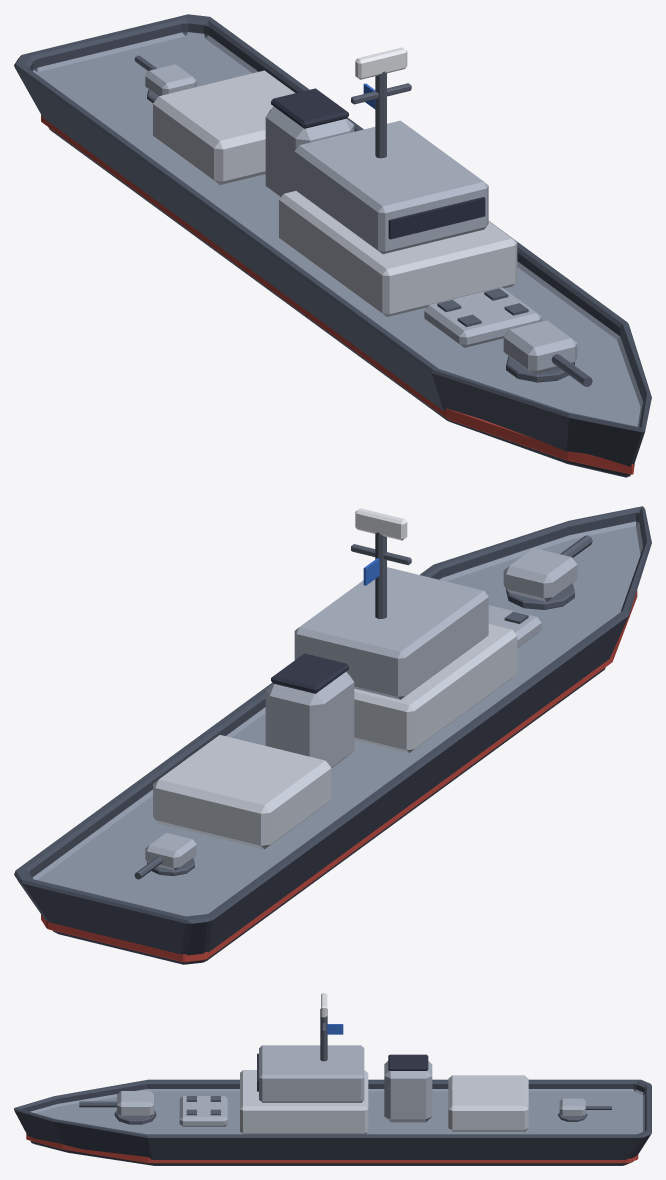
File: destroier.glb
The picture shows the model from 3 angles, top to bottom: view 1: azimuth 30°, elevation 25°; view 2: azimuth 150°, elevation 25°; view 3: azimuth 270°, elevation 25°; orthographic projection. The views are drawn at different scales.
Visible parts, largest first — view 1: destroier; view 2: destroier; view 3: destroier.
Boxes of the visible parts, x1=… form: destroier: x1=14, y1=14, x2=651, y2=477; destroier: x1=14, y1=506, x2=651, y2=964; destroier: x1=14, y1=993, x2=651, y2=1165.
Size of the model in its own units: 1.68 by 1.99 by 7.96.
